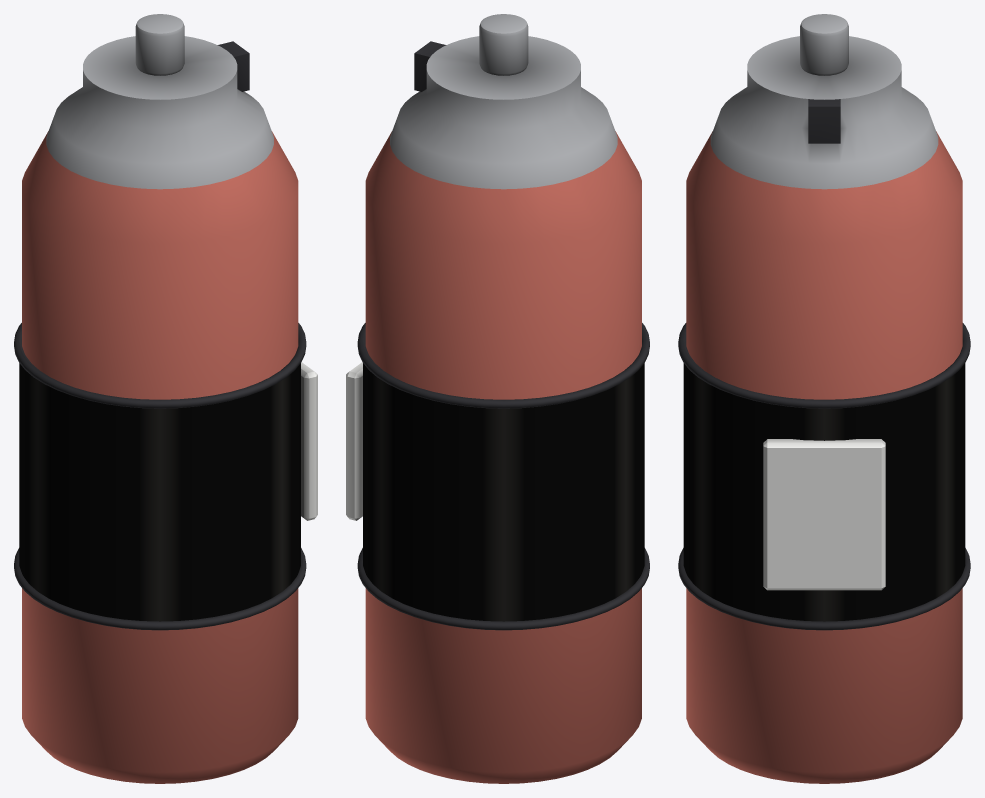
Rendered from kit_gas.glb.
3 renders of one model, left to right at view 1: azimuth 30°, elevation 25°; view 2: azimuth 150°, elevation 25°; view 3: azimuth 270°, elevation 25°, orthographic.
Visible parts, largest first — view 1: PART; view 2: PART; view 3: PART.
Boxes of the visible parts, box(x1,y1,x2,y2) form: PART: box(14, 14, 317, 783); PART: box(346, 14, 649, 783); PART: box(678, 14, 970, 783).
Bounding box in the file's own units: 0.0724 × 0.192 × 0.0717.
